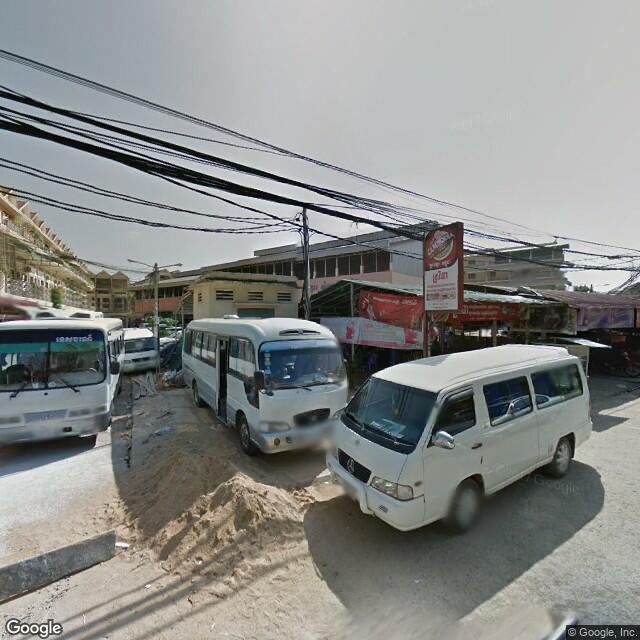litter: (117, 533, 131, 554), (140, 579, 159, 593)
